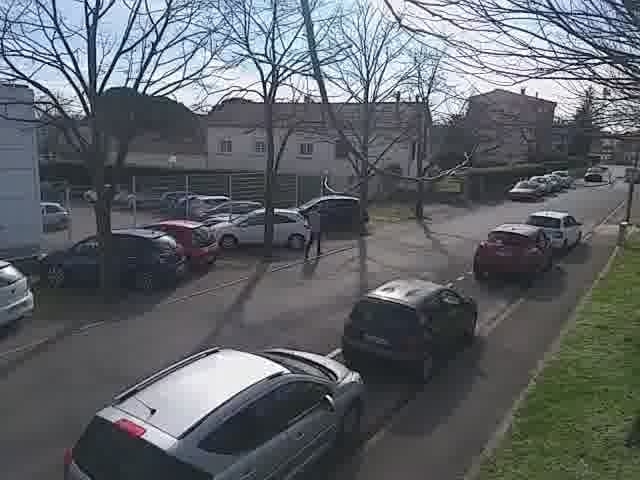persona: (298, 195, 331, 262)
